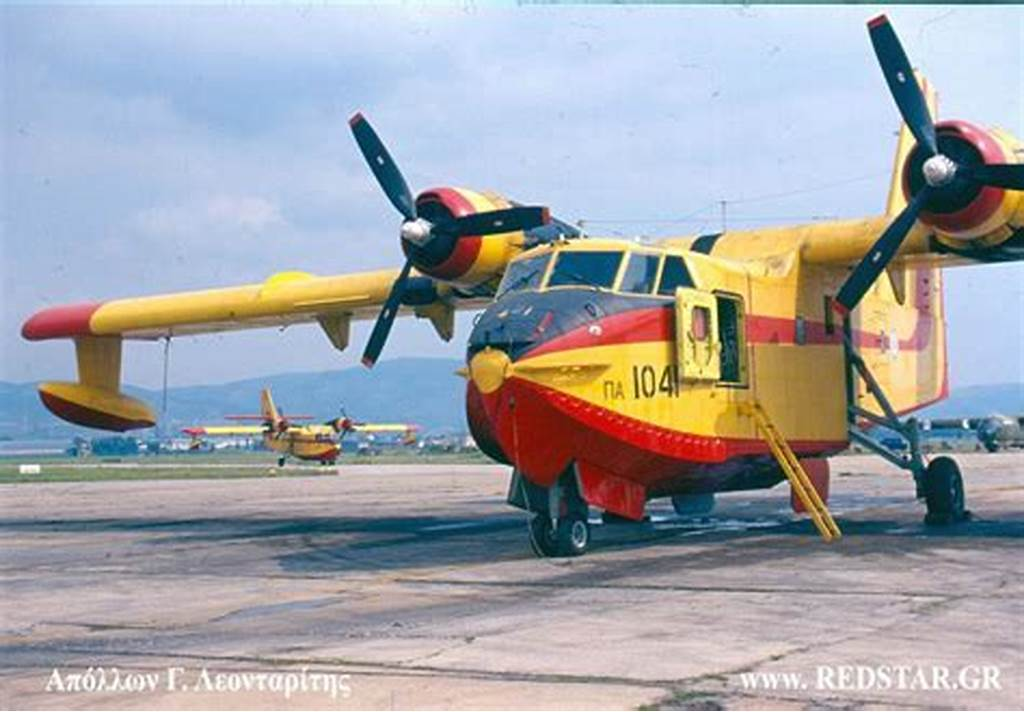Aeronef_de_service: (15, 6, 1024, 573)
